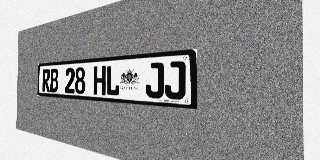2: (65, 67, 75, 93)
8: (75, 67, 86, 94)
B: (50, 68, 58, 92)
H: (93, 66, 106, 95)
J: (164, 61, 185, 100), (145, 62, 164, 99)
L: (106, 65, 120, 96)
R: (42, 69, 50, 92)
